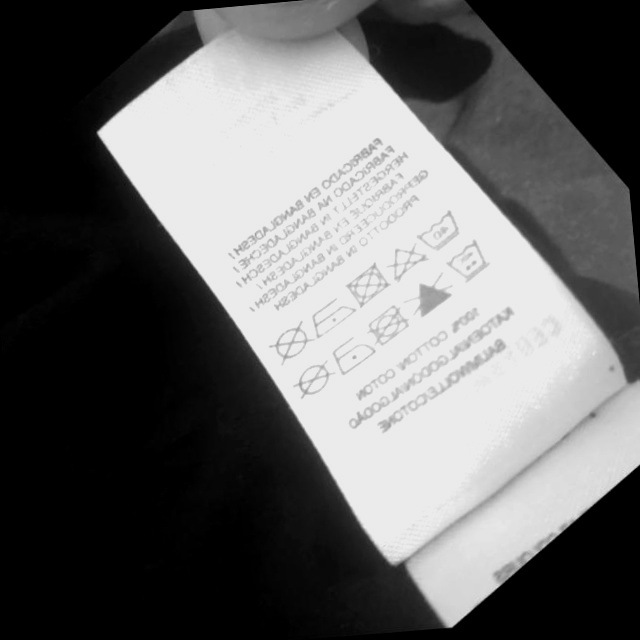40C: (412, 207, 460, 254), (441, 237, 491, 282)
DN_bleach: (400, 272, 456, 321), (386, 243, 431, 282)
DN_dry_clean: (283, 358, 340, 403), (263, 320, 317, 365)
DN_tumble_dry: (342, 261, 391, 310), (361, 302, 408, 349)
iron_low: (305, 295, 359, 337), (328, 332, 376, 378)
